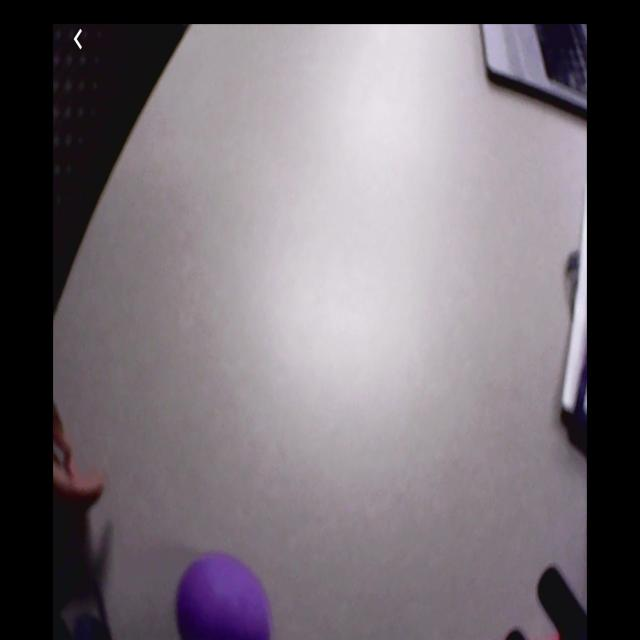ball: (177, 551, 270, 640)
